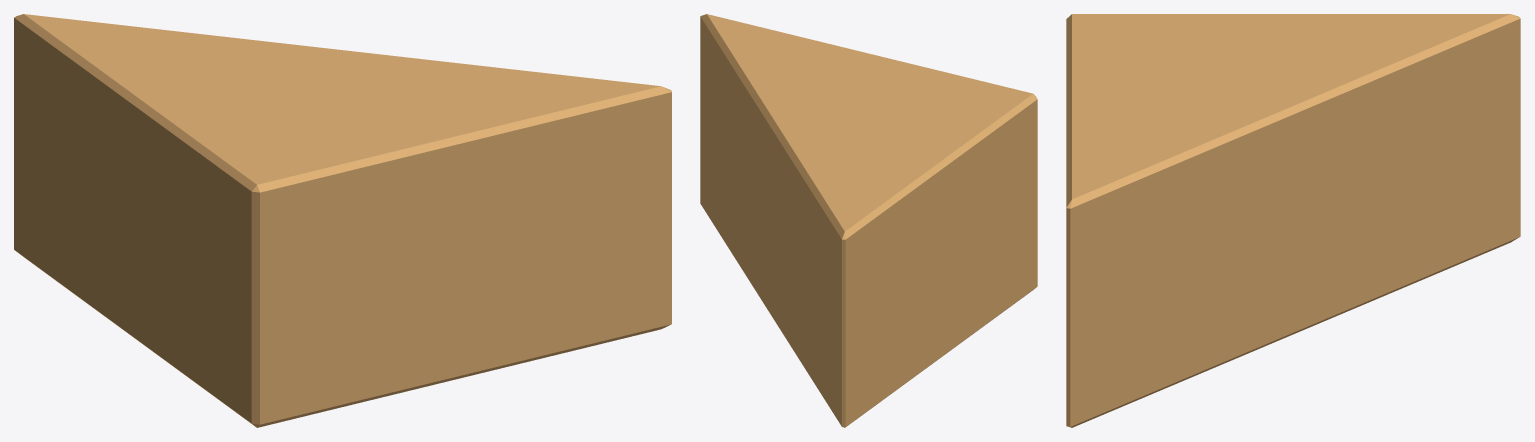
The model's file is wall_diagonal.glb.
The picture shows the model from 3 angles, left to right: view 1: azimuth 30°, elevation 25°; view 2: azimuth 150°, elevation 25°; view 3: azimuth 270°, elevation 25°; orthographic projection. The views are drawn at different scales.
Parts seen in each view (by area): view 1: Diagonal wedge.001; view 2: Diagonal wedge.001; view 3: Diagonal wedge.001.
Boxes of the visible parts, x1,y1,x2,y2 form: Diagonal wedge.001: (14, 14, 671, 427); Diagonal wedge.001: (700, 14, 1037, 427); Diagonal wedge.001: (1066, 14, 1520, 427).
Bounding box in the file's own units: 1.98 × 1.1 × 1.98.
